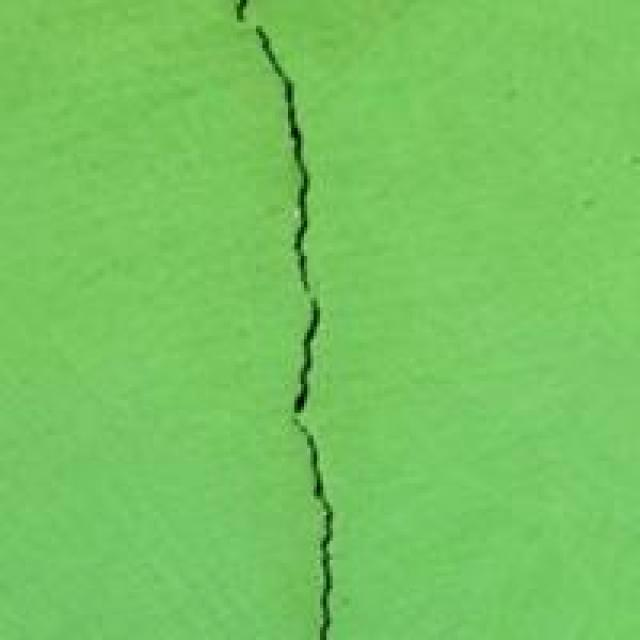crack: (210, 0, 376, 640)
